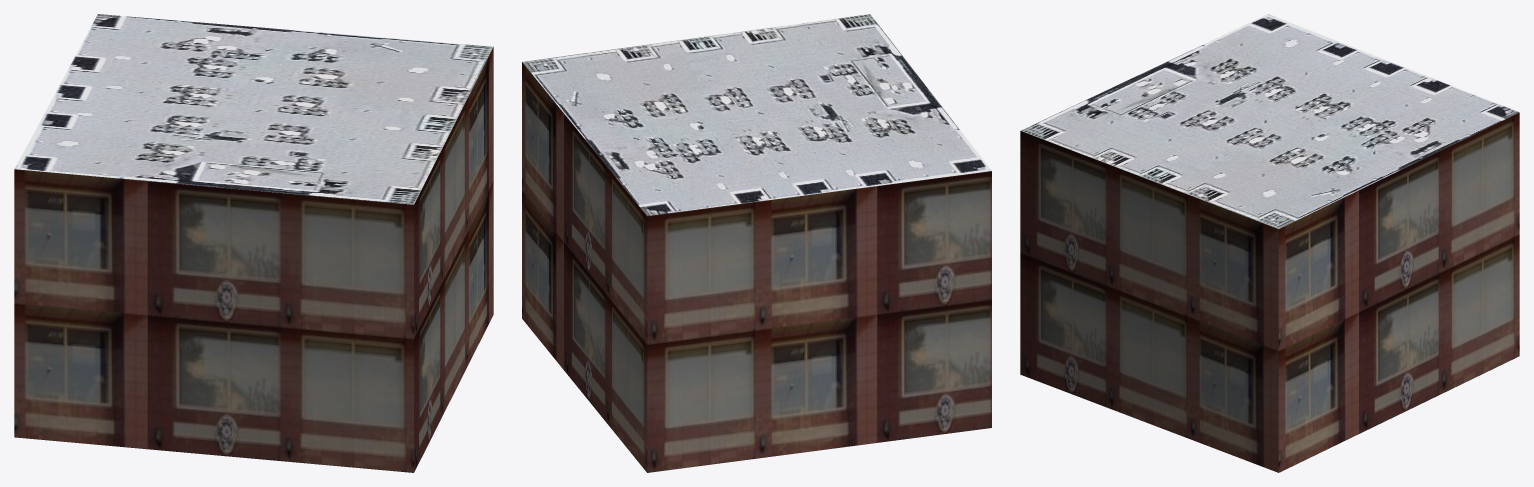
Rendered from ResTex__2306.fbx.
The picture shows the model from 3 angles, left to right: view 1: azimuth 30°, elevation 25°; view 2: azimuth 150°, elevation 25°; view 3: azimuth 270°, elevation 25°; orthographic projection. The views are drawn at different scales.
Parts seen in each view (by area): view 1: CityEngineMaterial_13_m, CityEngineMaterial_8_m; view 2: CityEngineMaterial_13_m, CityEngineMaterial_8_m; view 3: CityEngineMaterial_13_m, CityEngineMaterial_8_m.
Boxes of the visible parts, x1,y1,x2,y2 form: CityEngineMaterial_13_m: (14, 47, 493, 472); CityEngineMaterial_8_m: (15, 14, 492, 204); CityEngineMaterial_13_m: (522, 62, 991, 472); CityEngineMaterial_8_m: (522, 14, 991, 215); CityEngineMaterial_13_m: (1020, 112, 1519, 472); CityEngineMaterial_8_m: (1020, 14, 1518, 228).
Bounding box in the file's own units: 11.35 × 6 × 11.13.
2 materials, 2 textured.
